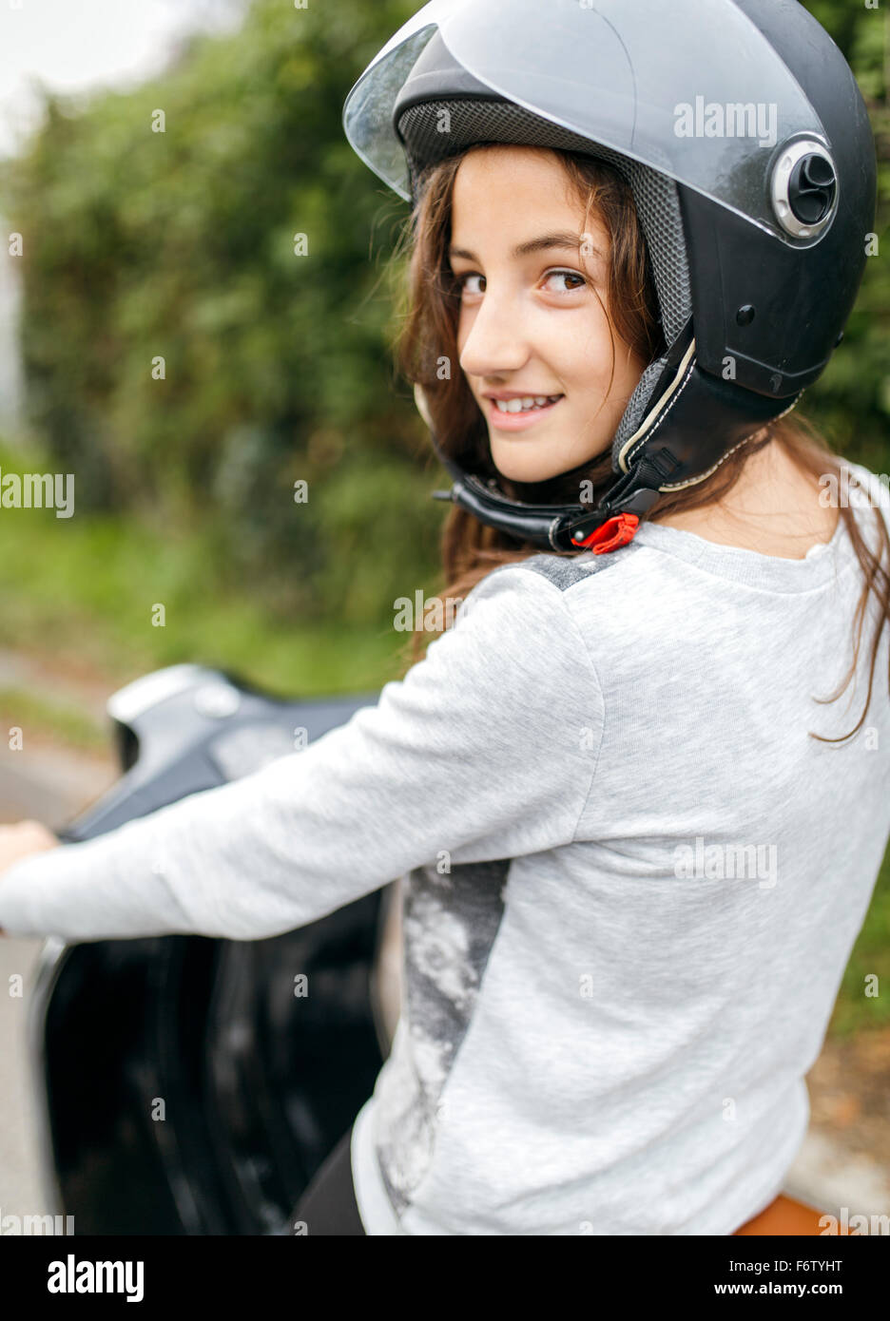helmets: (342, 0, 882, 496)
